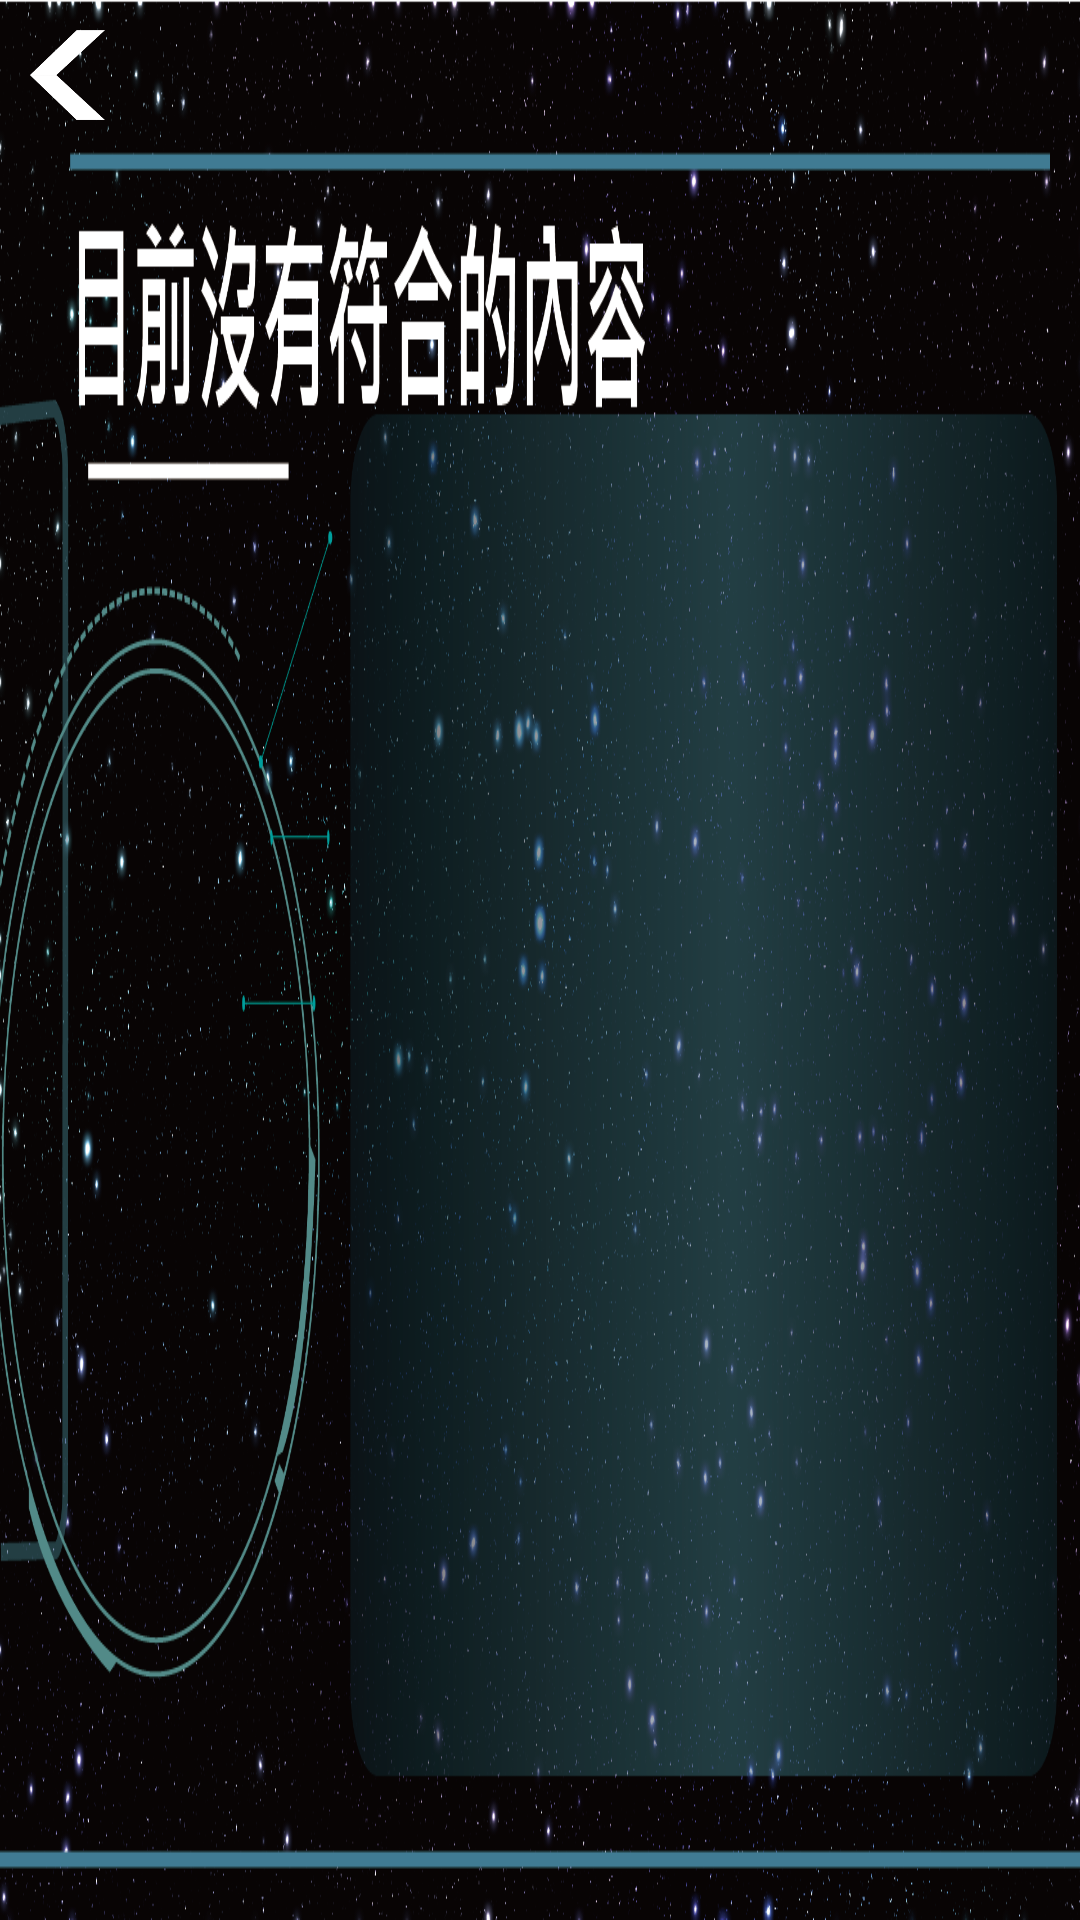

Icon bounding boxes for this 1080x1920 phone screenshot, format (x1, y1, x2, y2):
back: (30, 30, 105, 120)
